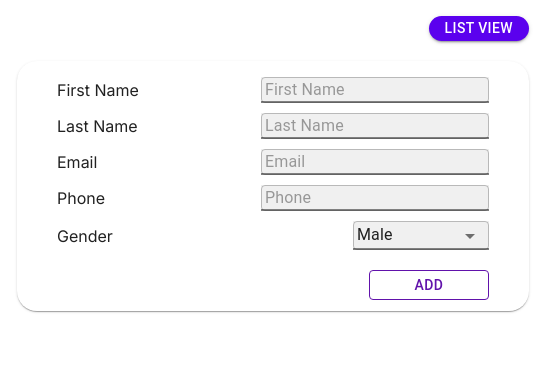
Test: Add Page tests › Showing errors messages correctly part 1 (All fields empty)
Click the button "ADD" at (429, 285), box [369,270,489,300]
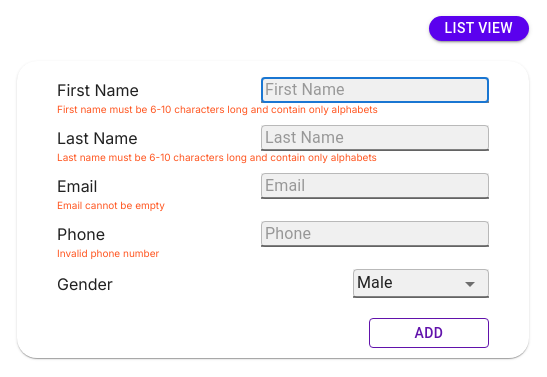
Check: the text "First name must be 6-10 characters long and contain only alphabets" is shown, box [57,103,378,115]
Check: the text "Last name must be 6-10 characters long and contain only alphabets" is shown, box [57,151,377,163]
Check: the text "Email cannot be empty" is shown, box [57,199,165,211]
